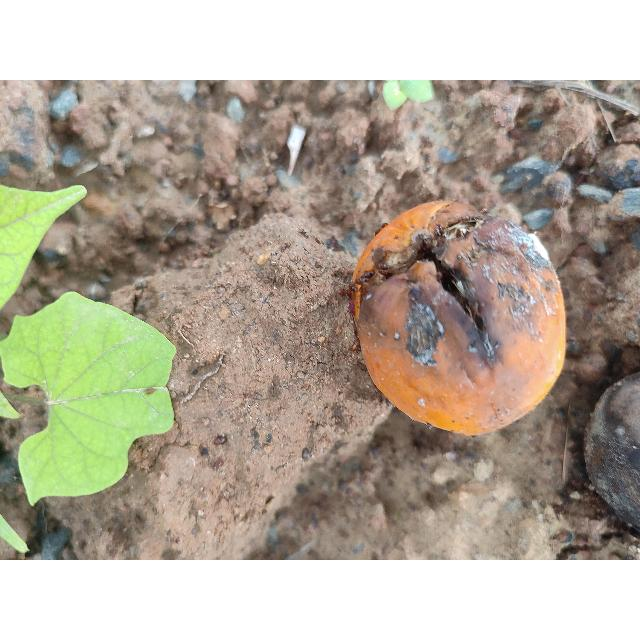damaged: (346, 200, 567, 438)
